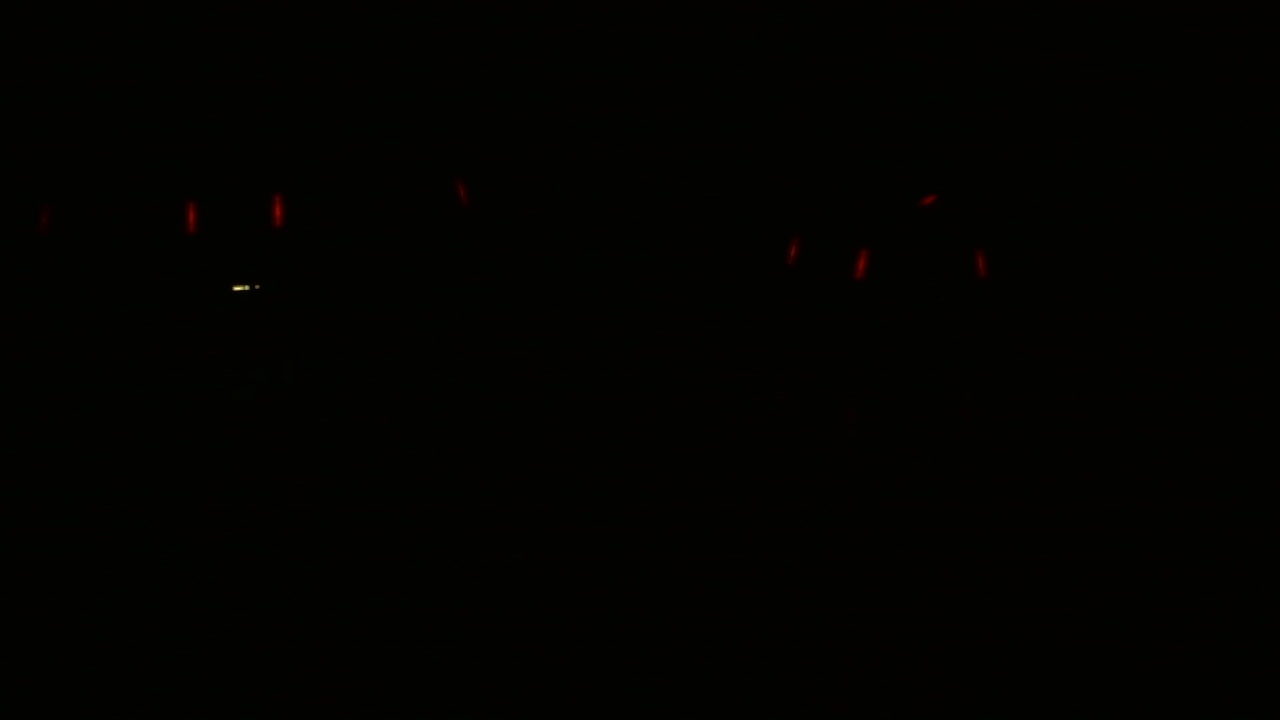pair1: (180, 186, 290, 237), (774, 238, 876, 277)
